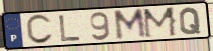9: (88, 10, 111, 42)
C: (24, 13, 55, 46)
L: (58, 14, 83, 43)
M: (112, 7, 149, 42), (141, 6, 179, 40)
Q: (178, 7, 202, 36)
